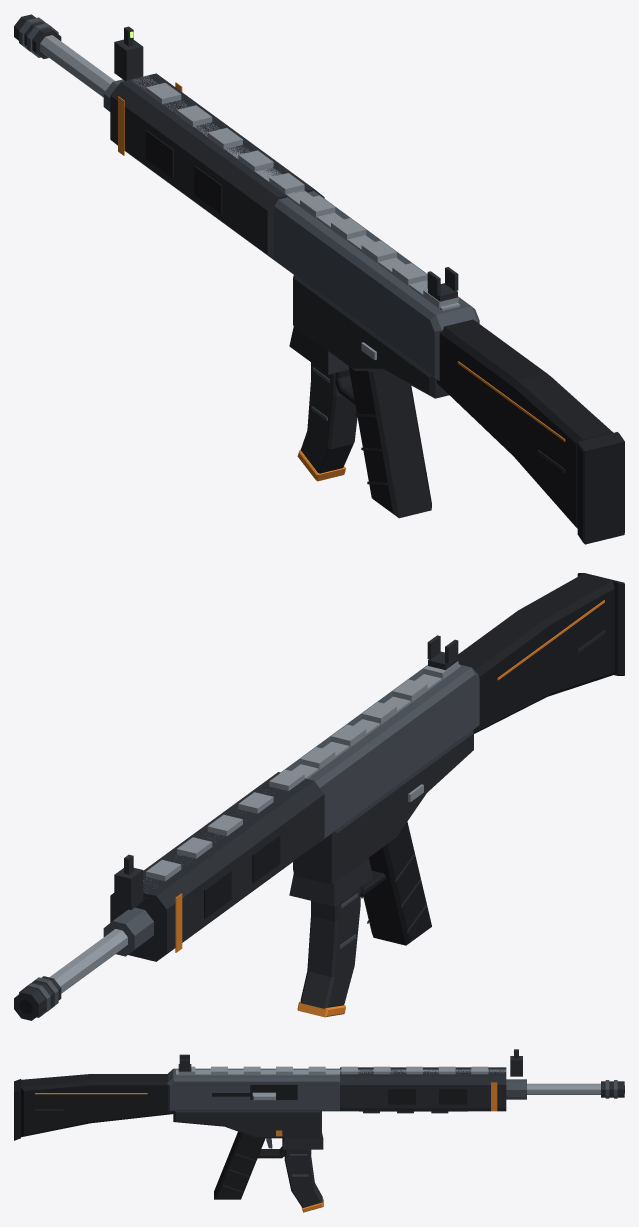
Rendered from rifle_assault.glb.
3 renders of one model, top to bottom at view 1: azimuth 30°, elevation 25°; view 2: azimuth 150°, elevation 25°; view 3: azimuth 270°, elevation 25°, orthographic. The views are drawn at different scales.
Visible parts, largest first — view 1: Body, Magazine; view 2: Body, Magazine; view 3: Body, Magazine.
Boxes of the visible parts, box(x1,y1,x2,y2) form: Body: box(14, 14, 624, 544); Magazine: box(297, 362, 357, 481); Body: box(14, 573, 624, 1020); Magazine: box(297, 887, 360, 1017); Body: box(14, 1049, 624, 1199); Magazine: box(284, 1149, 323, 1212).
Bounding box in the file's own units: 0.0632 × 0.2745 × 0.9543.
